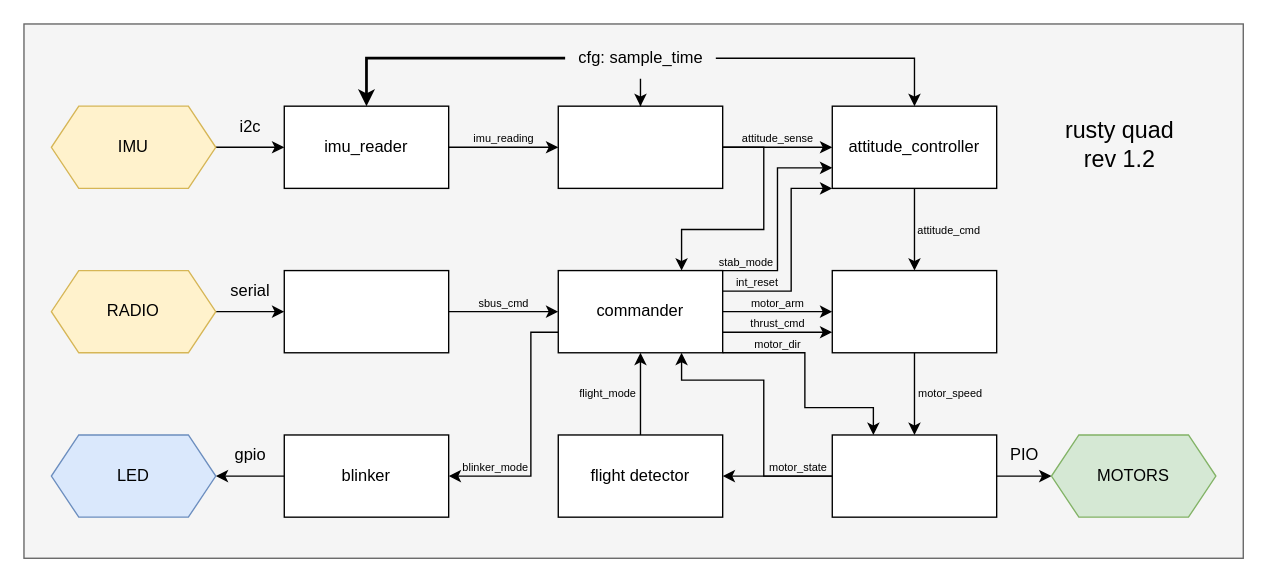
This 1267x582 diagram has some shape labels left out. The shapes that lost their labels are listed below. From the top down, each one's centre as x and y in pixels, then its label:
point 640,146: state_estimator
point 366,311: sbus_reader
point 914,311: motor_mixing
point 914,475: motor_governor
